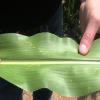Corn rust leaf: (1, 32, 78, 98)
